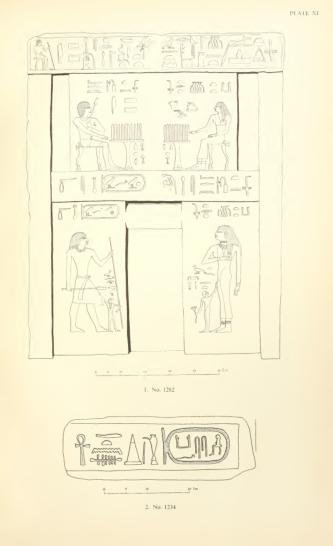circle: (158, 426, 233, 465), (99, 173, 149, 192), (78, 202, 120, 221)
